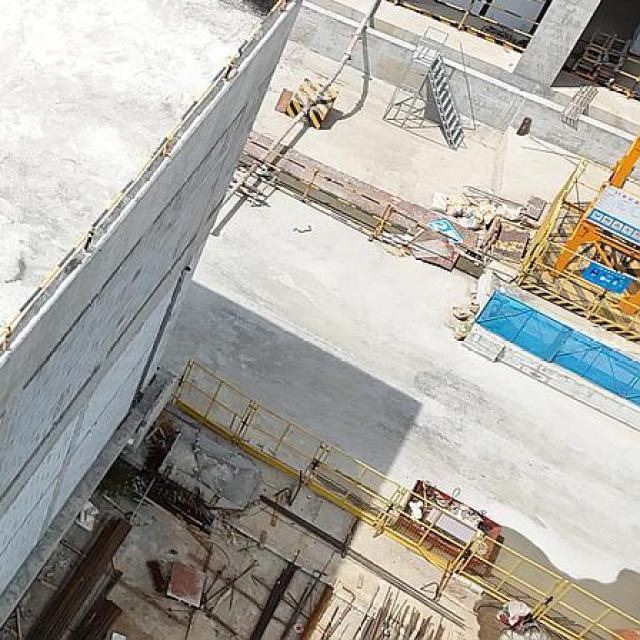edge_guardrail: (0, 0, 288, 351), (399, 0, 540, 53), (563, 37, 640, 102)
